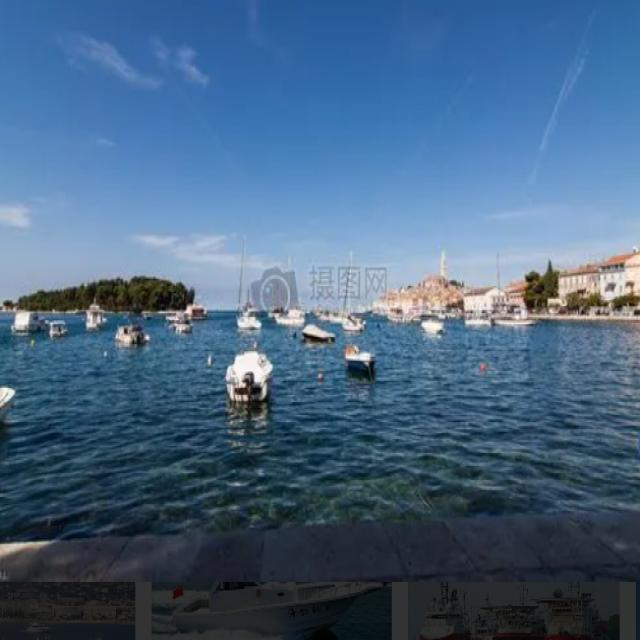houseboat: (222, 348, 274, 404), (492, 303, 538, 332), (236, 292, 264, 334), (271, 300, 305, 330), (169, 298, 208, 324), (342, 344, 376, 372), (80, 299, 106, 333), (10, 306, 40, 335), (417, 310, 448, 338), (302, 320, 334, 347), (316, 303, 354, 325), (115, 323, 148, 348), (341, 314, 367, 338), (170, 313, 191, 338), (46, 317, 68, 338)
